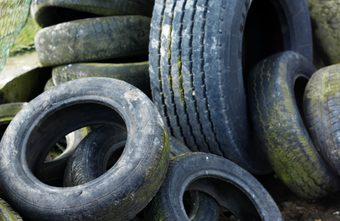tire: (151, 1, 314, 187), (1, 75, 170, 221), (250, 49, 339, 203), (156, 149, 283, 221), (46, 60, 203, 110), (34, 16, 172, 68)
